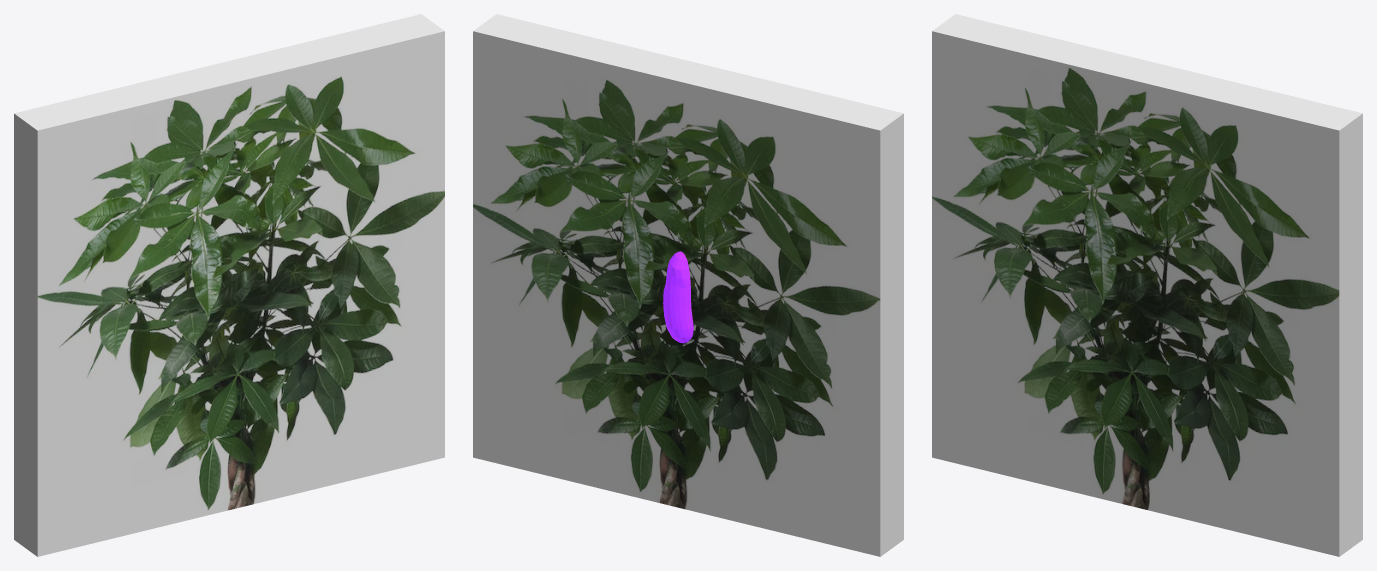
Rendered from eggplant_1.dae.
The picture shows the model from 3 angles, left to right: view 1: azimuth 30°, elevation 25°; view 2: azimuth 150°, elevation 25°; view 3: azimuth 330°, elevation 25°; orthographic projection.
Visible parts, largest first — view 1: Cube; view 2: Cube, Sphere; view 3: Cube.
Part boxes in pixels (box(x1,y1,x2,y2)): Cube: box(14, 14, 444, 556); Cube: box(473, 14, 903, 556); Sphere: box(663, 251, 693, 343); Cube: box(932, 14, 1362, 556).
Size of the model in its own units: 1 by 0.1151 by 1.
Materials: 2 (1 with a texture image).
